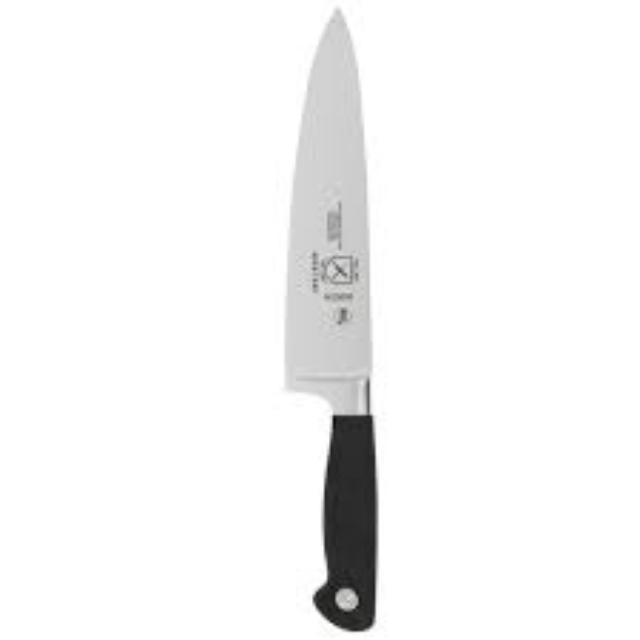knife: (282, 3, 376, 631)
